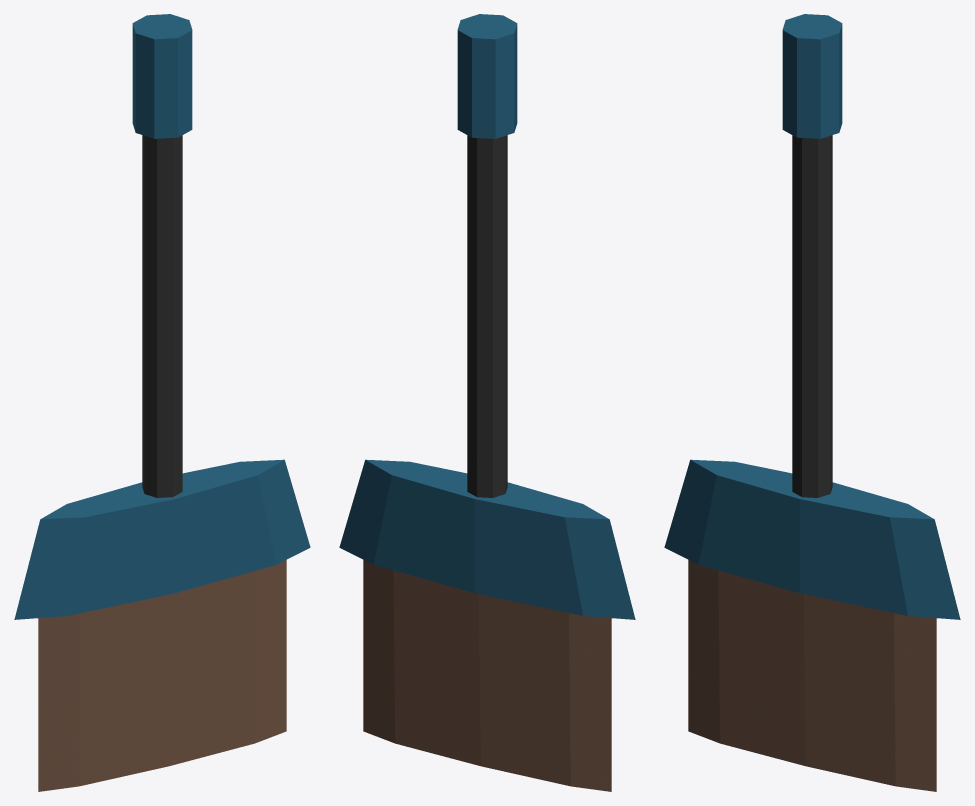
Rendered from Broom.fbx.
3 renders of one model, left to right at view 1: azimuth 30°, elevation 25°; view 2: azimuth 150°, elevation 25°; view 3: azimuth 330°, elevation 25°, orthographic.
Parts seen in each view (by area): view 1: pCylinder2; view 2: pCylinder2; view 3: pCylinder2.
Part boxes in pixels (x1,y1,x2,y2): pCylinder2: (14, 14, 310, 791); pCylinder2: (339, 14, 635, 791); pCylinder2: (664, 14, 960, 791).
Bounding box in the file's own units: 64.34 × 153 × 11.68.
